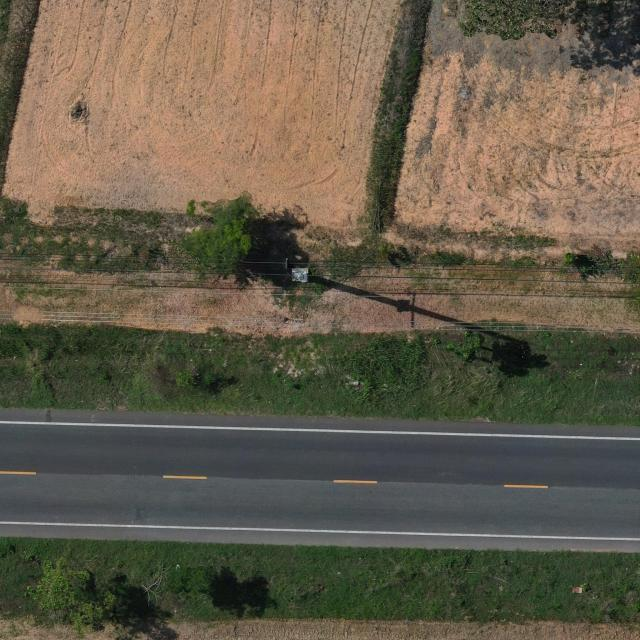Tree: (22, 556, 118, 638), (180, 189, 260, 275), (458, 0, 572, 42), (162, 560, 218, 605), (446, 329, 486, 364), (171, 364, 197, 392)
